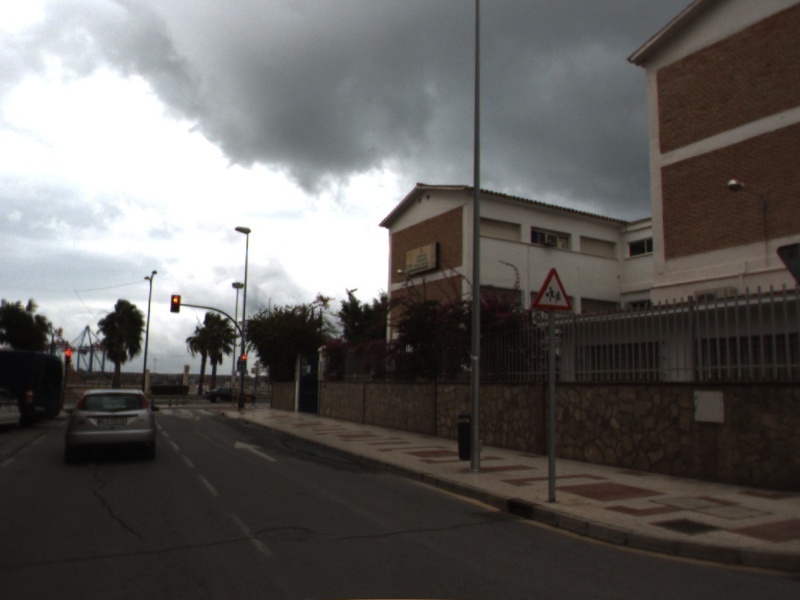STRAIGHT: (232, 438, 279, 464)
